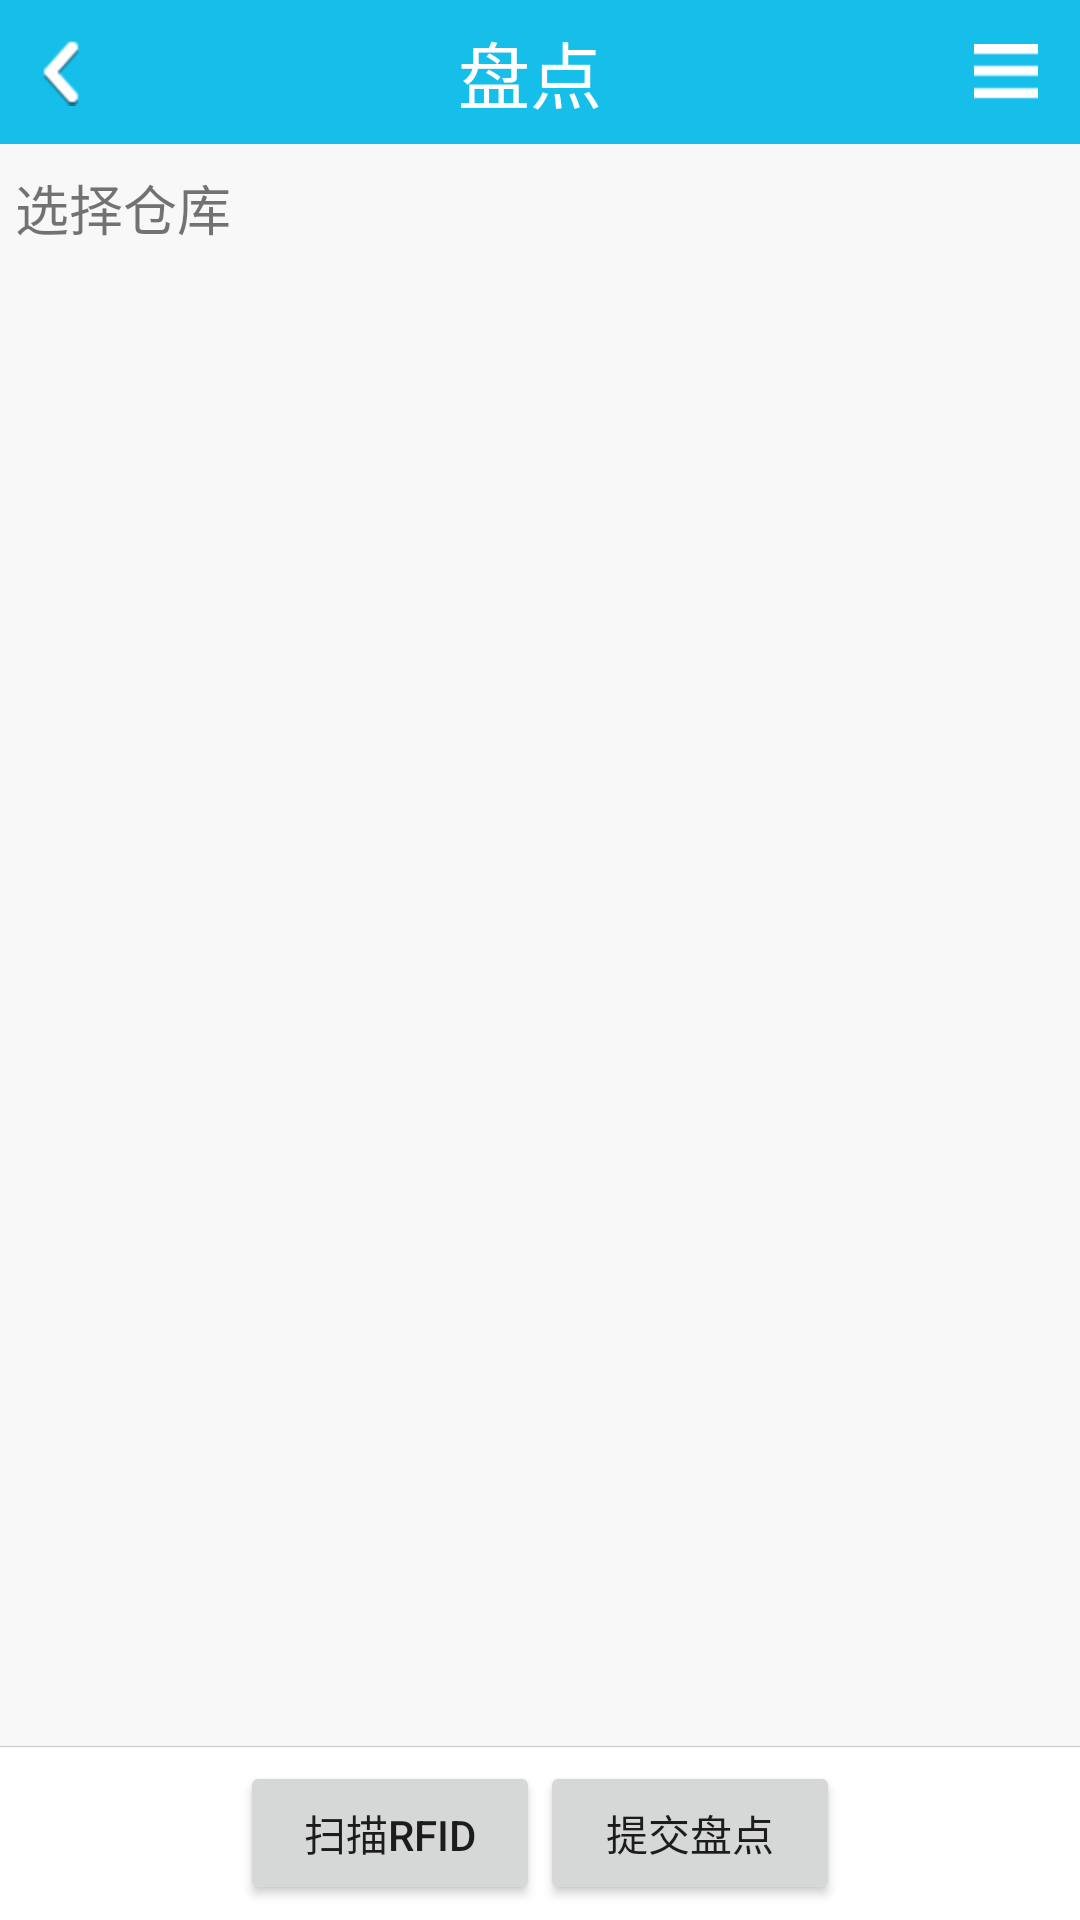

Named icons in this screenshot (1080px×1920px) and their centers, [x,y]:
更多: [1006,71]
返回: [61,73]
